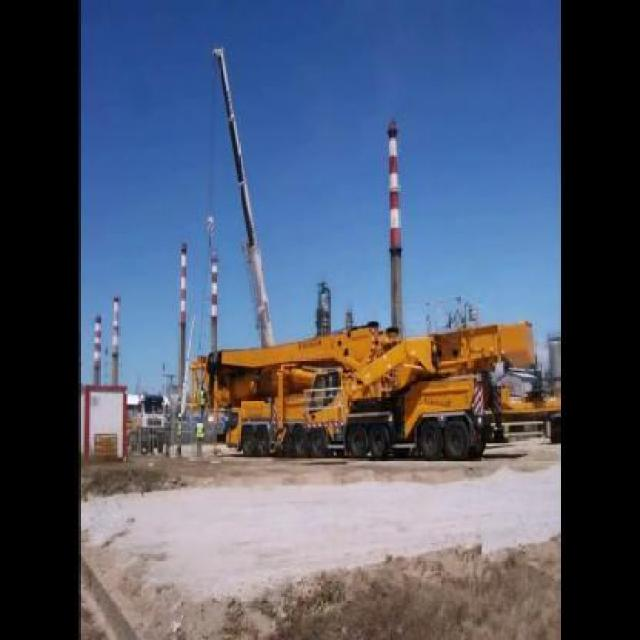Mobile Crane: (207, 330, 482, 455)
